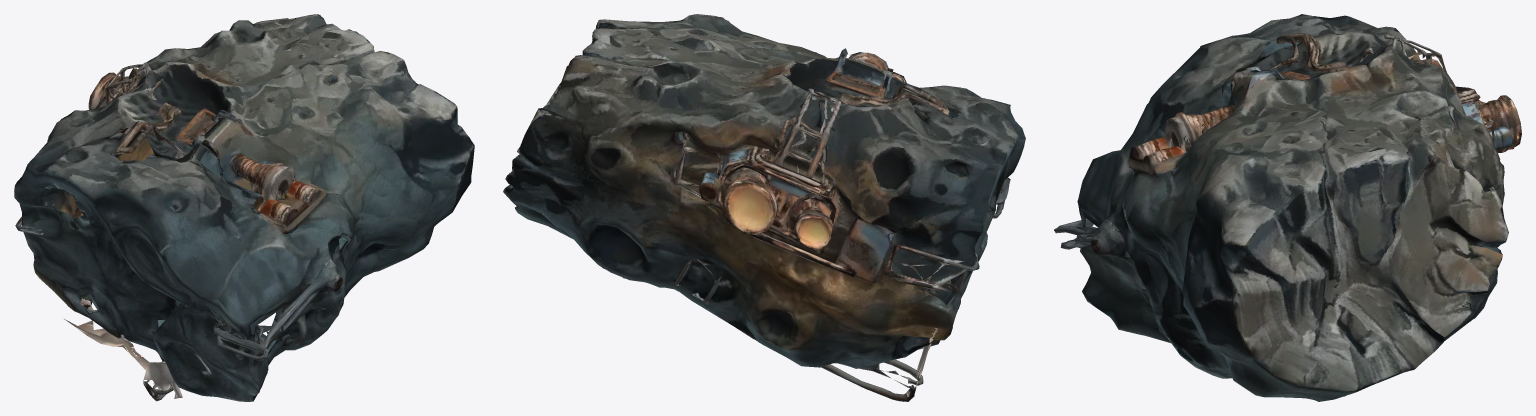
Rendered from na-rock-b.glb.
3 views of the same model, side by side, from view 1: azimuth 30°, elevation 25°; view 2: azimuth 150°, elevation 25°; view 3: azimuth 270°, elevation 25° (orthographic). The views are drawn at different scales.
Parts seen in each view (by area): view 1: geometry_0; view 2: geometry_0; view 3: geometry_0.
Part boxes in pixels (left/top/right/bottom): geometry_0: left=14, top=14, right=474, bottom=401; geometry_0: left=503, top=14, right=1025, bottom=401; geometry_0: left=1054, top=14, right=1521, bottom=401.
Size of the model in its own units: 0.9376 by 0.6414 by 0.773.
Materials: 1 (1 with a texture image).
